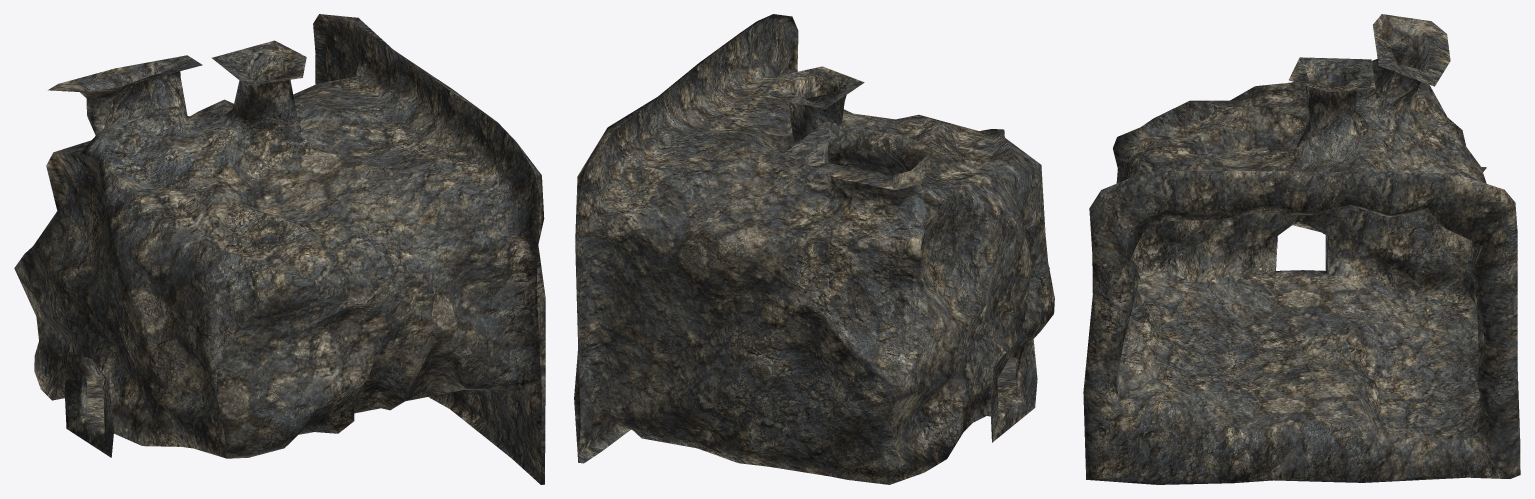
Rendered from Module15B_LOD1.fbx.
3 renders of one model, left to right at view 1: azimuth 30°, elevation 25°; view 2: azimuth 150°, elevation 25°; view 3: azimuth 270°, elevation 25°, orthographic. The views are drawn at different scales.
Visible parts, largest first — view 1: cave_el15B_1800:Group12212; view 2: cave_el15B_1800:Group12212; view 3: cave_el15B_1800:Group12212.
Boxes of the visible parts, x1,y1,x2,y2 form: cave_el15B_1800:Group12212: (14,14,545,484); cave_el15B_1800:Group12212: (574,14,1054,484); cave_el15B_1800:Group12212: (1083,14,1520,484).
Bounding box in the file's own units: 31.82 × 30.94 × 35.94.
